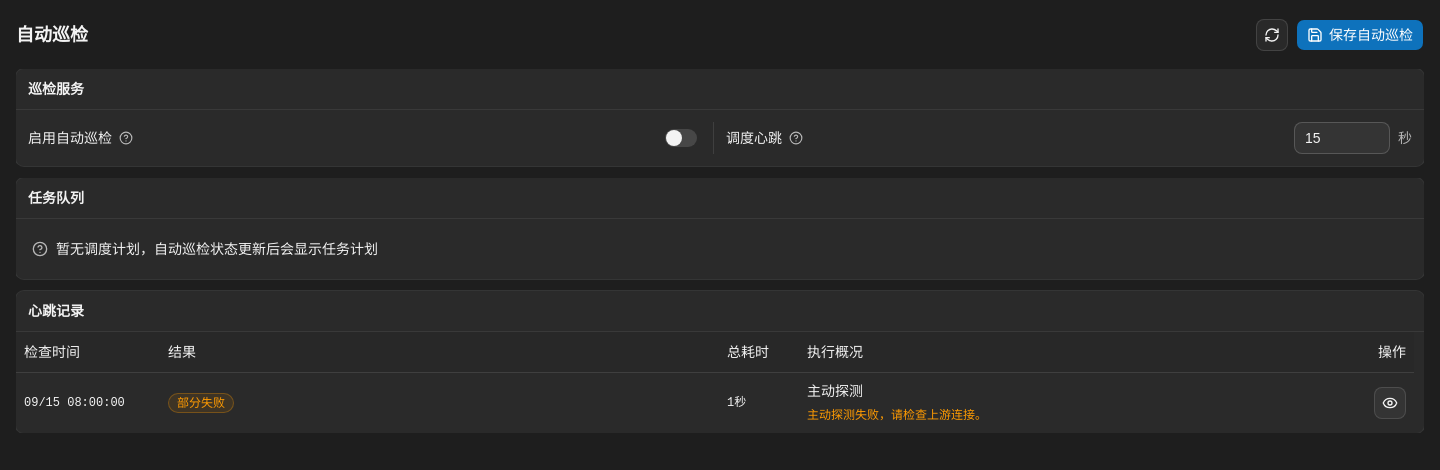
it: 心跳周期为空并保存时，将校验原因关联到输入框
Clear the number field named "调度心跳周期" at (1342, 138), box [1294,122,1390,154]
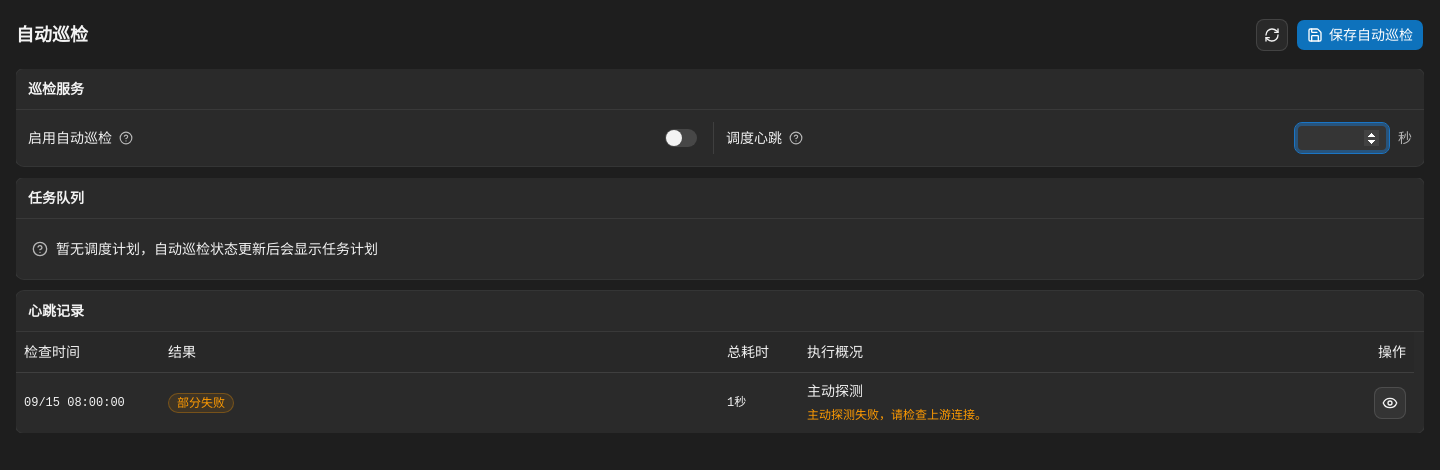
Click the button "保存自动巡检" at (1360, 35), box [1296,19,1424,51]
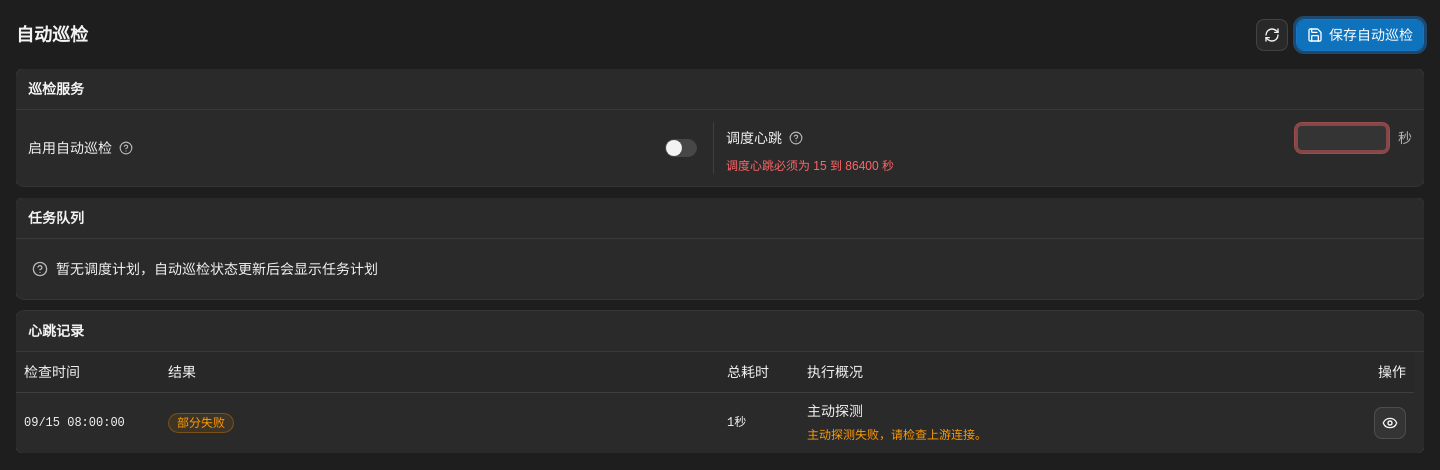
Check: the number field named "调度心跳周期" is marked as invalid
Type "30" into the number field named "调度心跳周期" at (1342, 138), box [1294,122,1390,154]
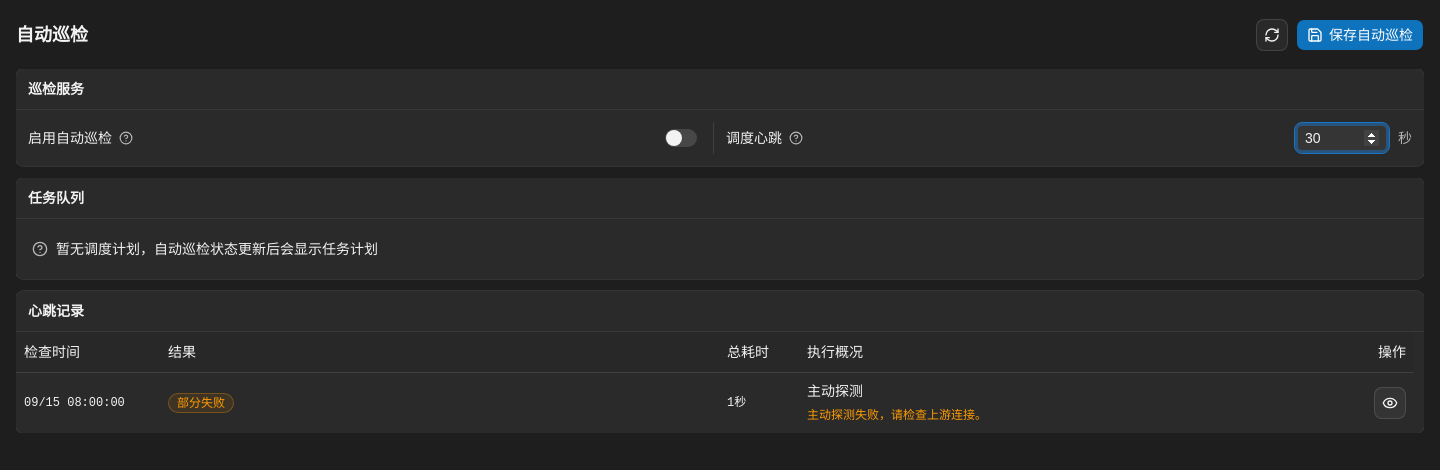
Check: the text "调度心跳必须为 15 到 86400 秒" is gone
